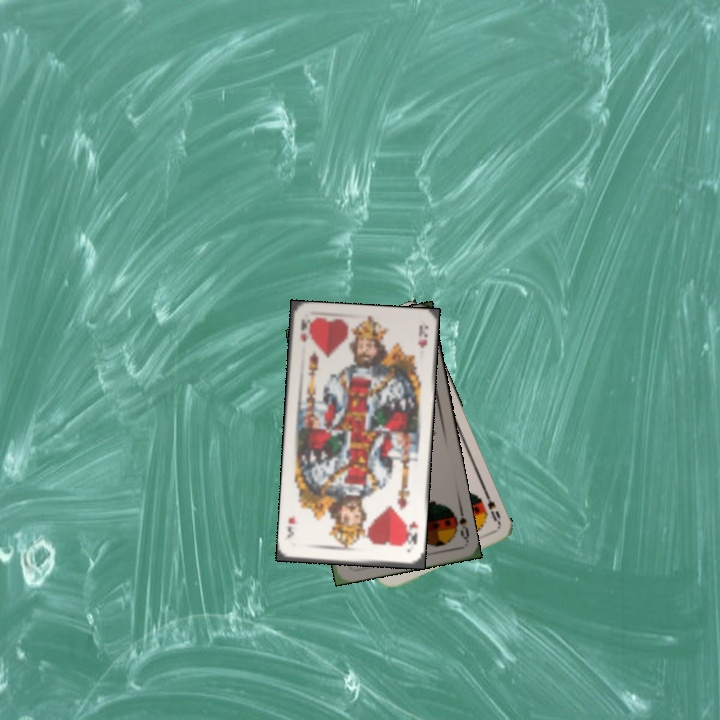HK: (401, 518, 421, 547), (296, 316, 312, 344)
SO: (447, 503, 472, 543), (481, 489, 504, 528)
